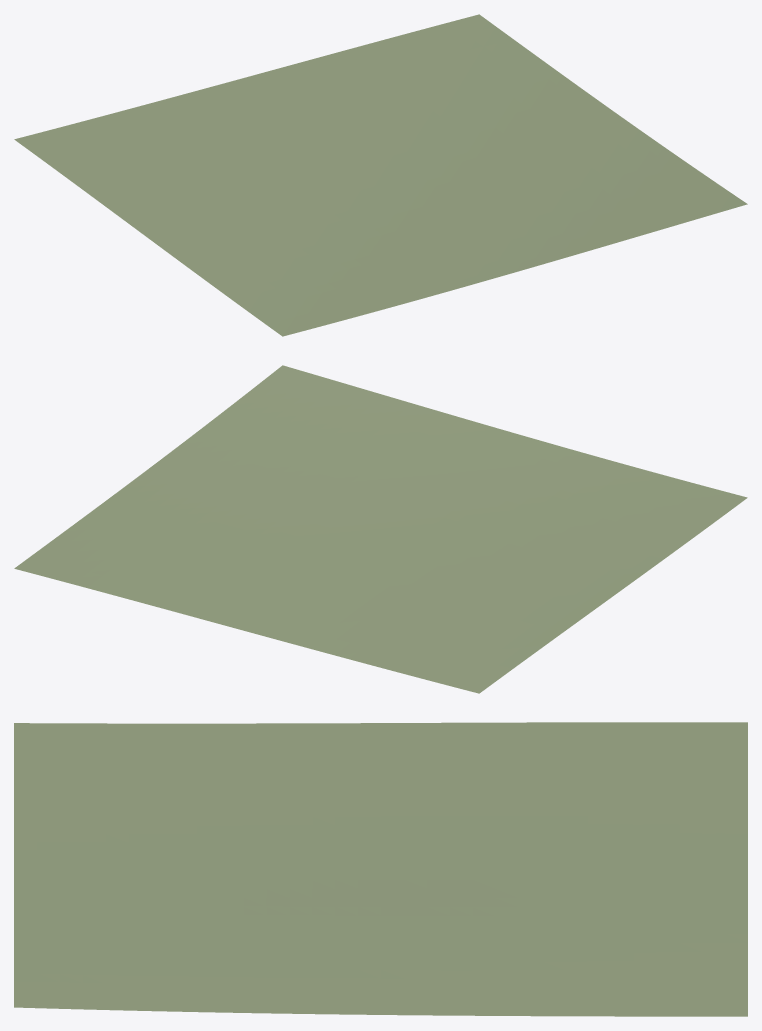
The model's file is expanse-11-2.glb.
3 renders of one model, top to bottom at view 1: azimuth 30°, elevation 25°; view 2: azimuth 150°, elevation 25°; view 3: azimuth 270°, elevation 25°, orthographic. The views are drawn at different scales.
Visible parts, largest first — view 1: expanse-11-2; view 2: expanse-11-2; view 3: expanse-11-2.
Part boxes in pixels (x1=…): expanse-11-2: x1=14, y1=14, x2=747, y2=336; expanse-11-2: x1=14, y1=365, x2=747, y2=693; expanse-11-2: x1=14, y1=722, x2=747, y2=1016.
Size of the model in its own units: 256 by 10.09 by 256.
